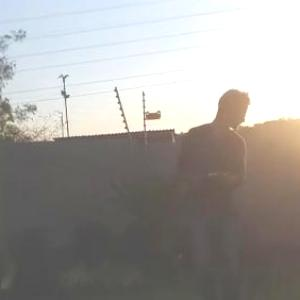follow: (170, 85, 256, 299)
